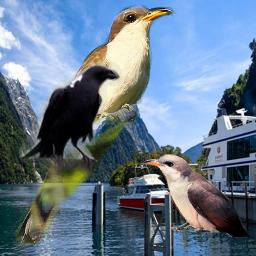Crow: (18, 62, 122, 180)
Cuckoo: (12, 1, 176, 250), (143, 154, 251, 238)
